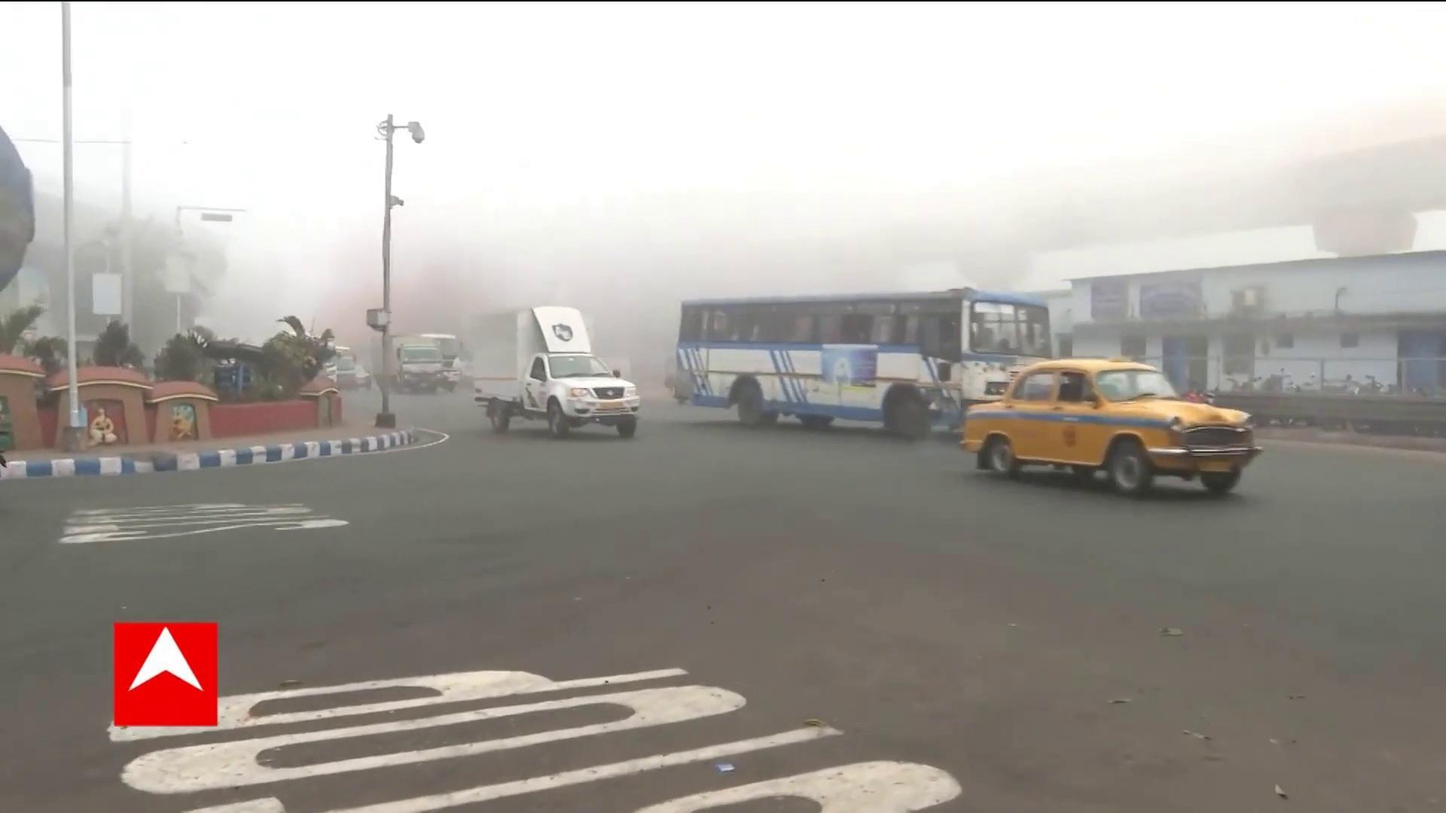Bus: (672, 285, 1061, 437)
Car: (956, 355, 1258, 498)
Truck: (473, 304, 641, 440)
